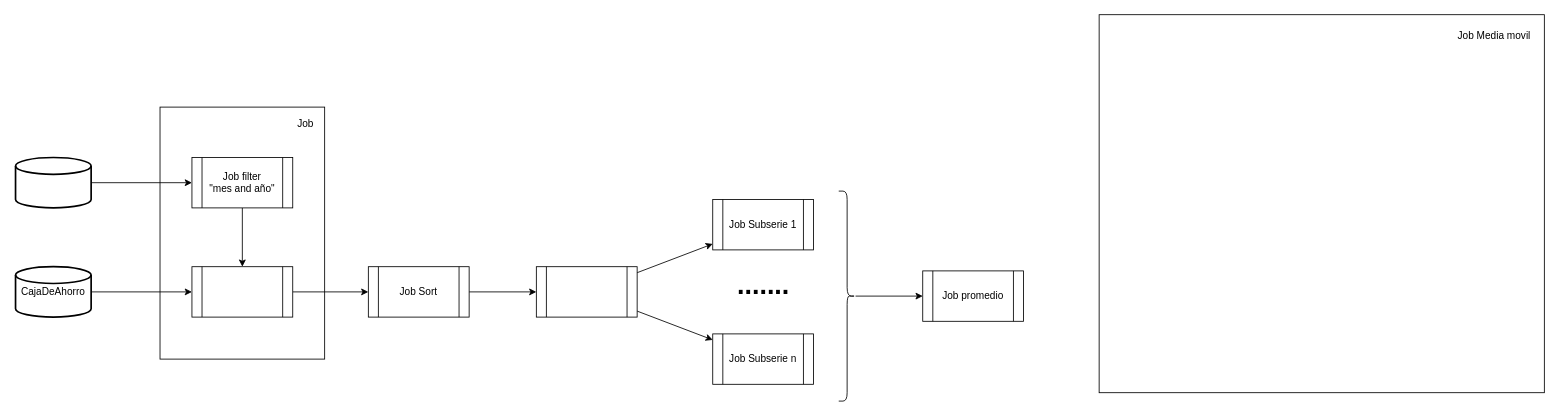
Image size: 1559x416. Some labels were removed from this diagram. Each missing label, with the centre of its shape:
"Job join (id_caja)" belongs at (x=242, y=291).
"Job Length" belongs at (x=586, y=291).
"Movimientos" belongs at (x=53, y=182).
